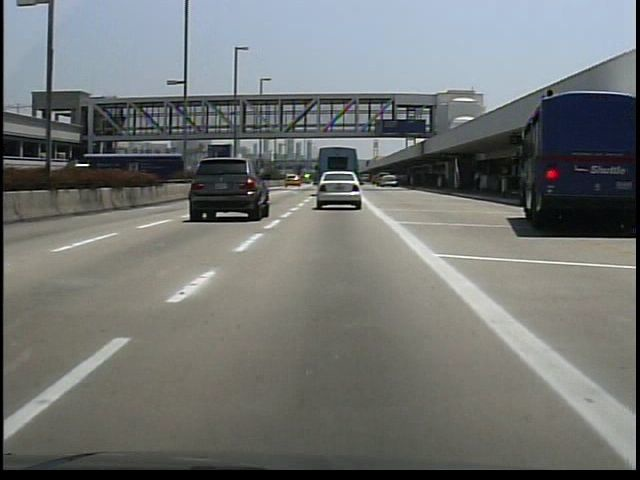person: (467, 164, 487, 201)
